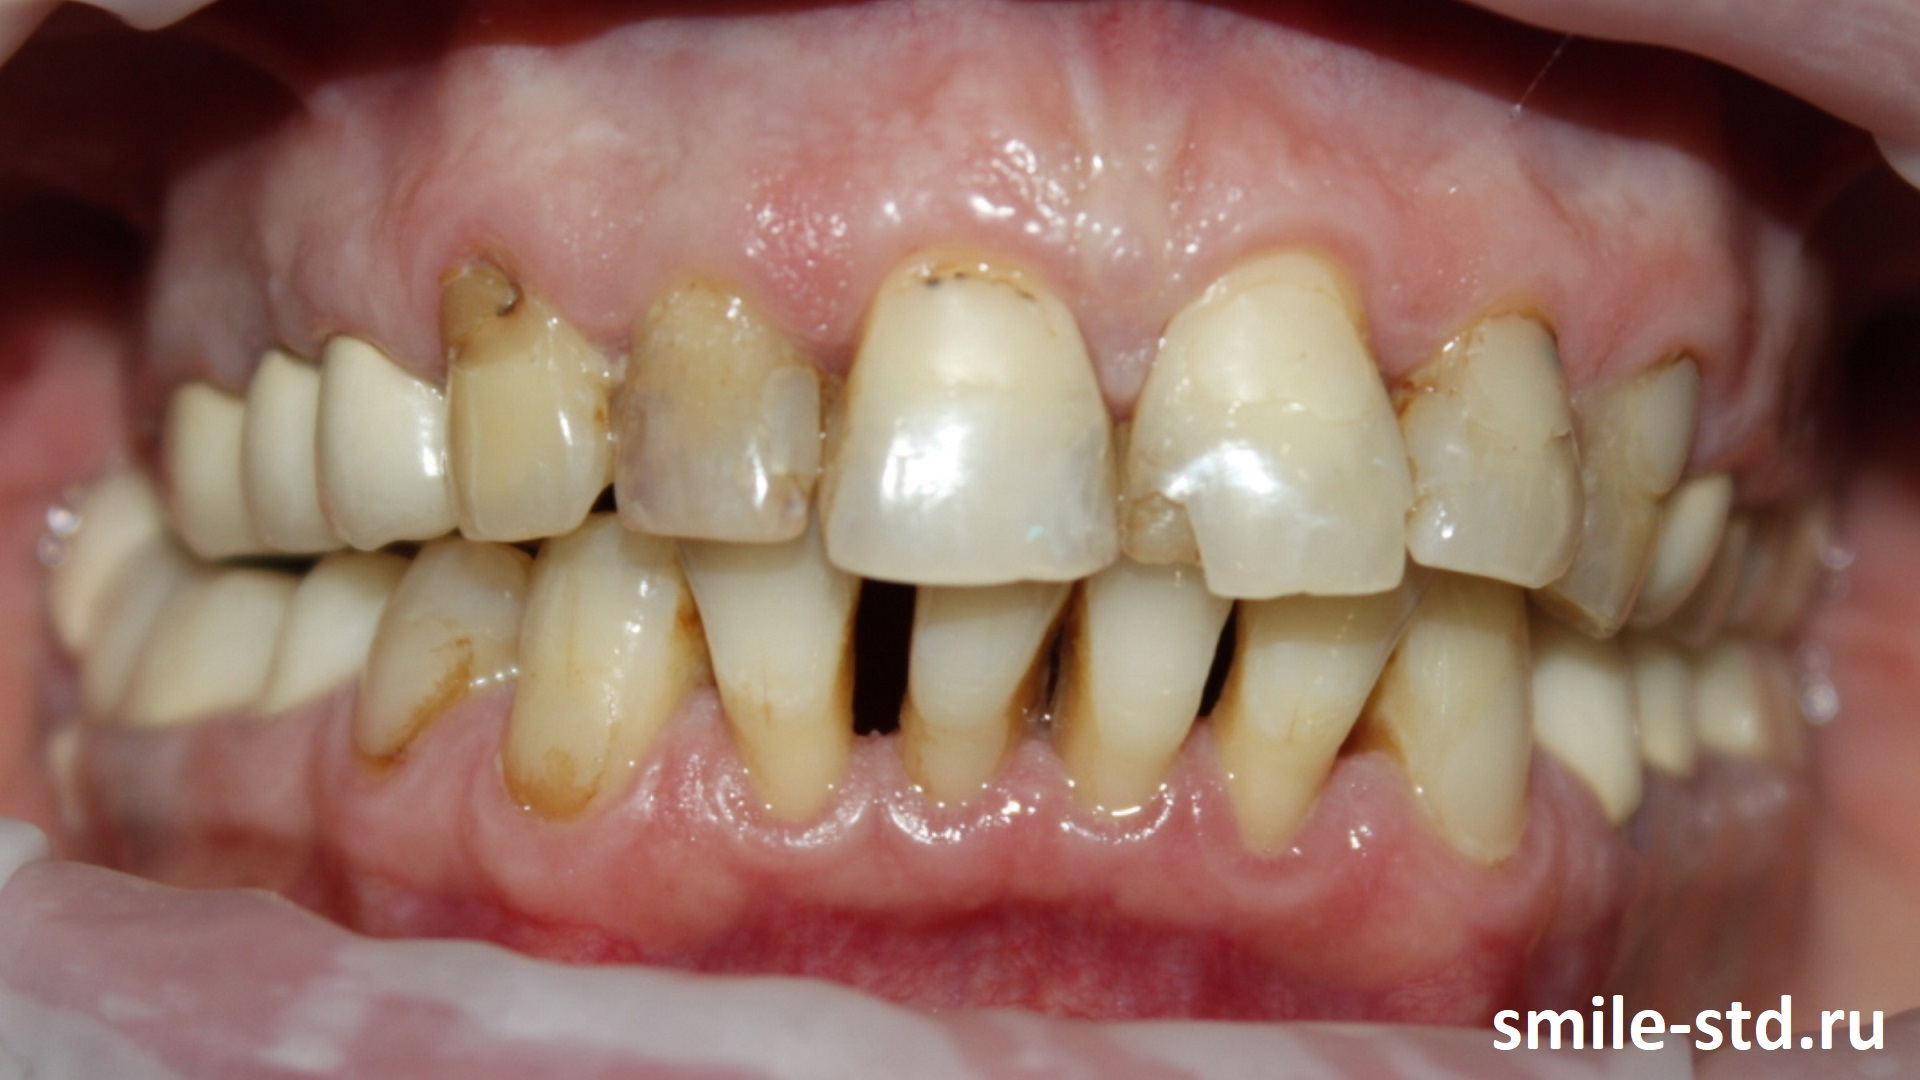LLC_healthy: (1395, 618, 1542, 876)
LRC_decay: (348, 534, 520, 787)
LRLI_decay: (487, 551, 686, 823)
ULCI_decay: (1135, 241, 1410, 600)
ULC_decay: (1543, 355, 1716, 637)
ULLI_decay: (1410, 301, 1580, 582)
UR1BC_healthy: (315, 328, 469, 559)
UR1M_healthy: (166, 377, 244, 560)
UR2BC_healthy: (239, 347, 342, 556)
URCI_decay: (824, 229, 1127, 591)
URC_decay: (434, 258, 624, 543)
URLI_decay: (618, 273, 820, 545)
